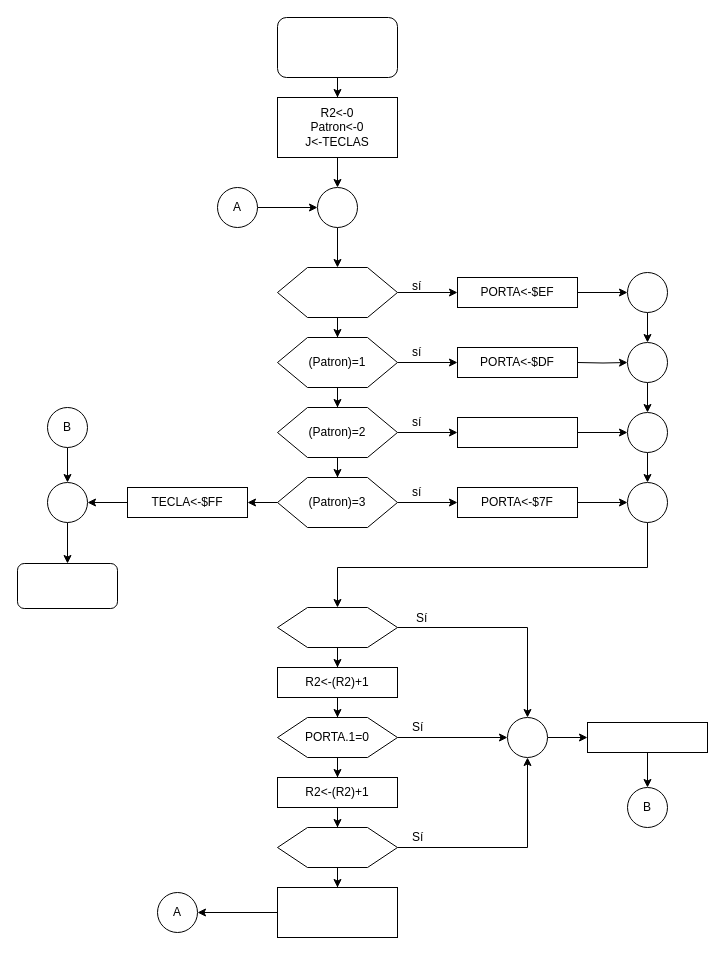
Image size: 725x955. Some labels were removed from this diagram. Here are the shapes that lost their labels. From the top down, the centre of each, then its label:
point (337, 47): MUX_Teclado
point (337, 292): (Patron)=0
point (517, 432): PORTA<-$BF
point (67, 585): Return
point (337, 627): PORTA.0=0
point (647, 737): TECLA<-(J+(R2))
point (337, 847): PORTA.2=0
point (337, 912): R2<-(R2)+1 Patron<-(Patron)+1
